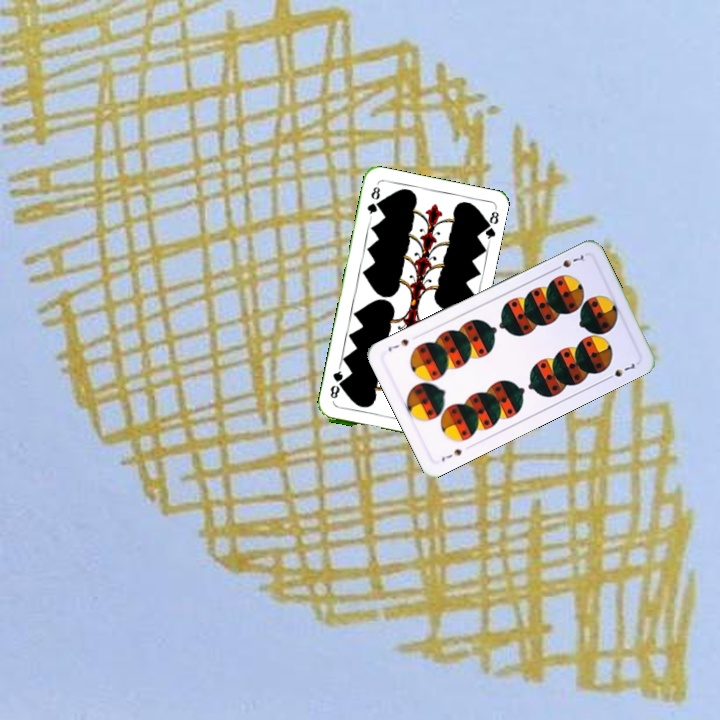G8: (363, 182, 383, 221)
S7: (550, 251, 587, 273), (437, 445, 464, 464)
